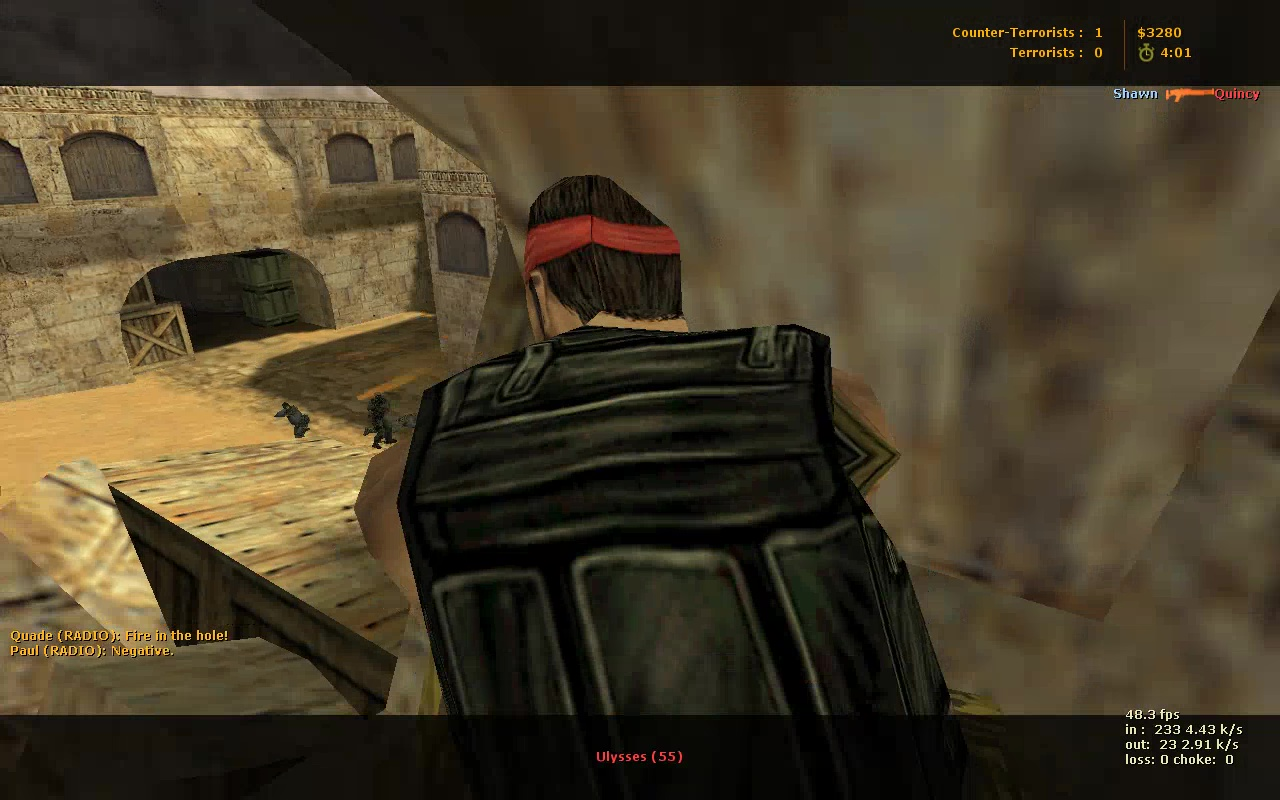ct: (367, 393, 394, 444), (278, 400, 312, 439)
terr1: (347, 175, 960, 719)
